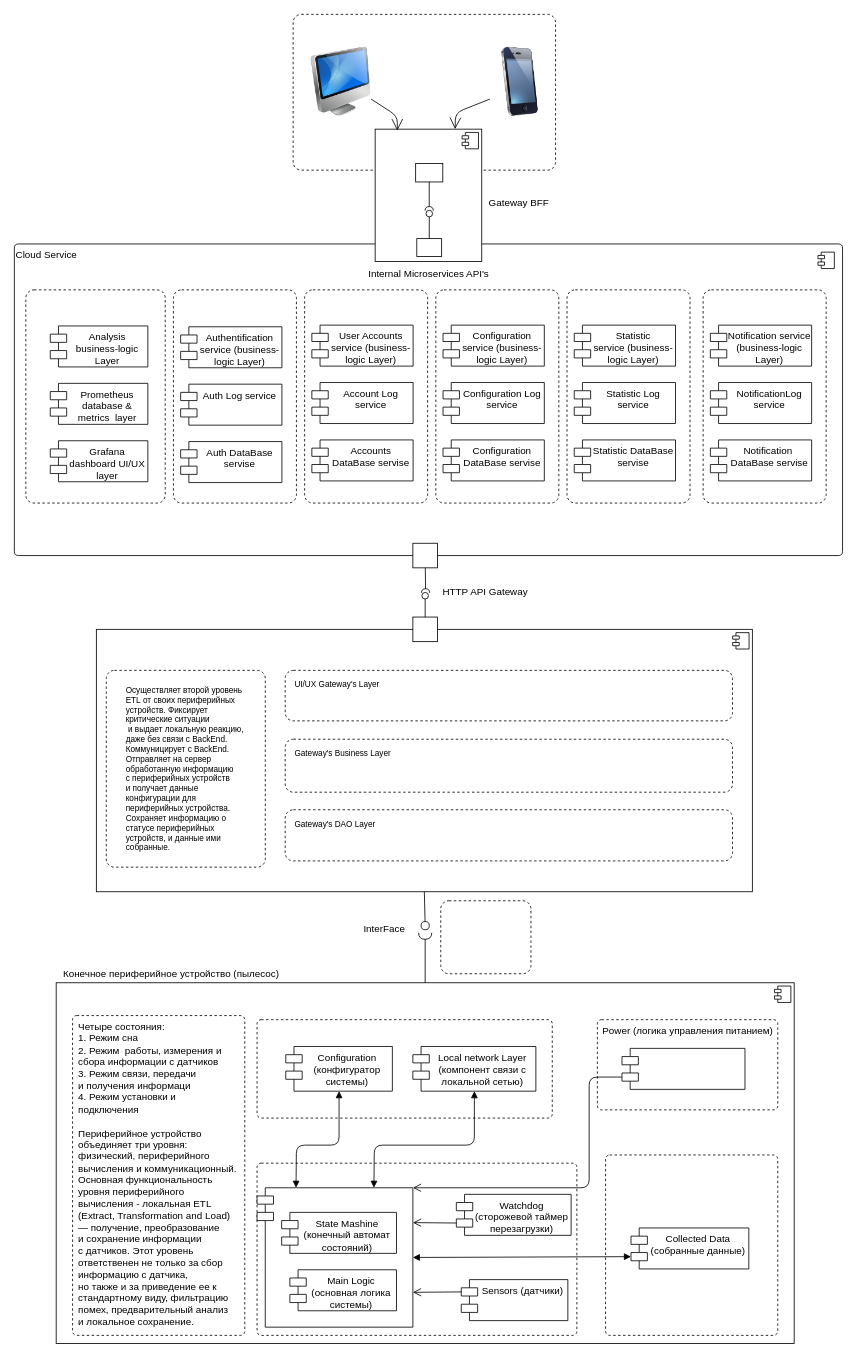
Some shapes in this 857 by 1358 pixel diagram are drawn without their labels. Each missing label, with the box of its shape:
Accounts MicroService: (304, 289, 428, 503)
API's Protocols: ZigBee/ Zwave BLE LoRa Proprietary low band: (440, 900, 531, 974)
Authentification MicroService: (173, 289, 296, 503)
Battery (батарея питания с адаптером питания): (621, 1048, 745, 1089)
Busines logic (слой бизнес логики): (256, 1162, 577, 1335)
Client's Browser Fronend mobile Frontend: (292, 14, 556, 170)
Configuration MicroService: (435, 289, 559, 503)
DAO (слой данных): (605, 1154, 778, 1335)
Local GateWay Layer (локальный шлюз): (96, 629, 752, 892)
Log MicroService: (25, 289, 165, 503)
Main Module: (256, 1187, 413, 1327)
Notification MicroService: (702, 289, 826, 503)
Phisical Layer Component: (55, 982, 794, 1344)
REST API: (374, 128, 482, 262)
Ststistic MicroService: (566, 289, 690, 503)
UI/UX Layer: (256, 1019, 552, 1118)
